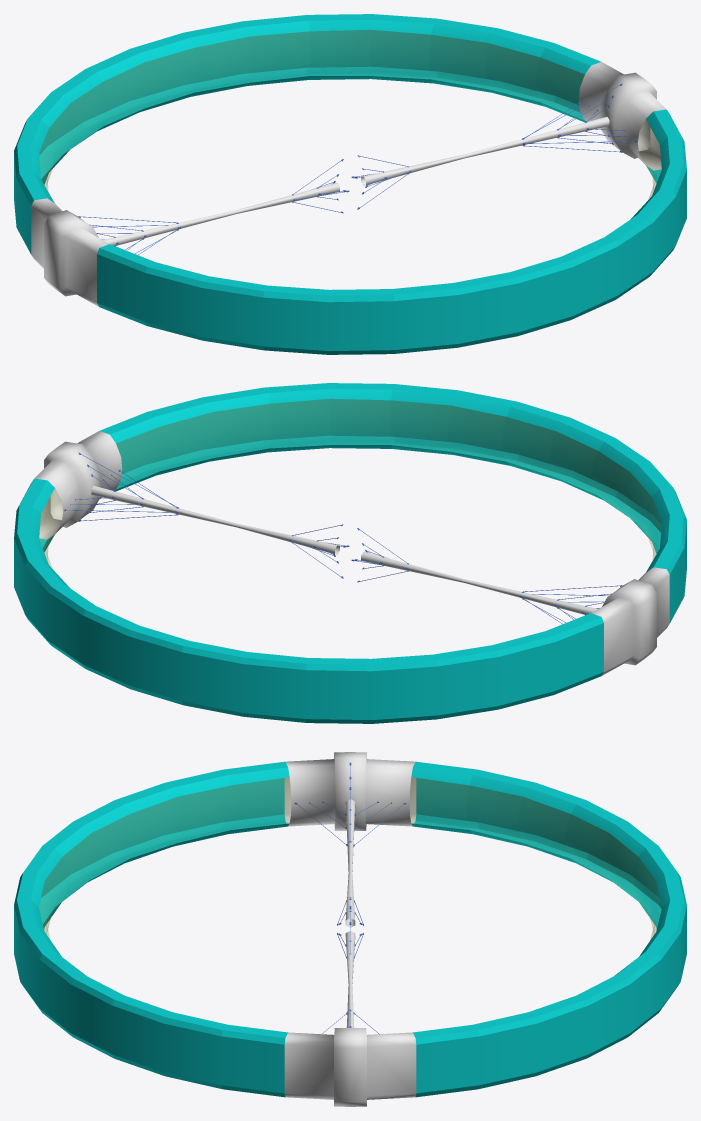
Rendered from station_ring_2-10k_coll.dae.
The picture shows the model from 3 angles, top to bottom: view 1: azimuth 30°, elevation 25°; view 2: azimuth 150°, elevation 25°; view 3: azimuth 270°, elevation 25°; orthographic projection.
Parts seen in each view (by area): view 1: collision_ring_001, collision_ring, collision_ring_spoke, collision_spoke, collision_struts_001, collision_struts; view 2: collision_ring, collision_ring_001, collision_ring_spoke, collision_spoke, collision_struts_001, collision_struts; view 3: collision_ring_001, collision_ring, collision_ring_spoke, collision_spoke.
Boxes of the visible parts, x1,y1,x2,y2 form: collision_ring_001: [97, 109, 686, 354]; collision_ring: [14, 14, 601, 254]; collision_ring_spoke: [31, 62, 666, 306]; collision_spoke: [103, 116, 609, 245]; collision_struts_001: [351, 83, 636, 209]; collision_struts: [78, 159, 349, 254]; collision_ring: [14, 478, 603, 723]; collision_ring_001: [99, 383, 686, 623]; collision_ring_spoke: [34, 431, 669, 675]; collision_spoke: [91, 485, 597, 614]; collision_struts_001: [64, 452, 349, 578]; collision_struts: [351, 528, 622, 624]; collision_ring_001: [14, 761, 290, 1097]; collision_ring: [410, 761, 686, 1097]; collision_ring_spoke: [284, 752, 416, 1106]; collision_spoke: [345, 799, 355, 1027].
Bounding box in the file's own units: 10678 × 10436 × 1235.
